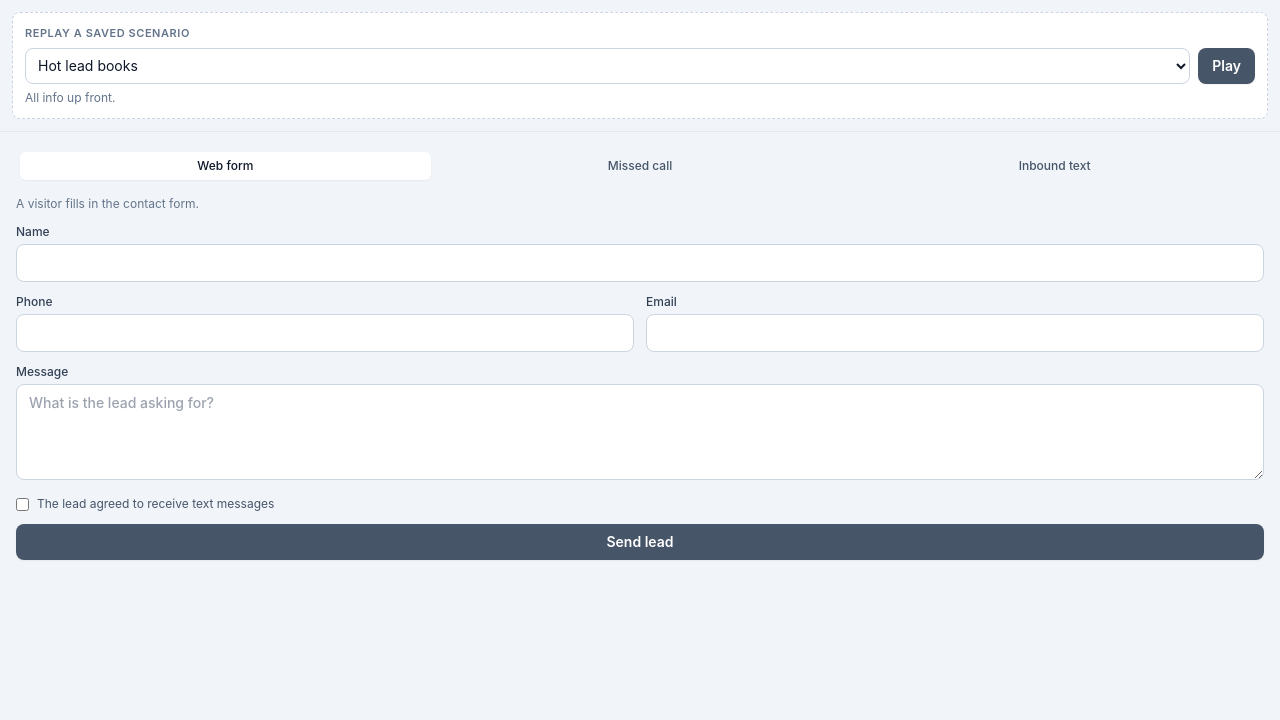
it: LeadSimulator › blocks an invalid lead and tells the user why
The image size is (1280, 720).
What coordinates should you click on to do the following:
click the button "Send lead"
I would click on:
 (640, 542)
Its box is [16, 524, 1264, 560].
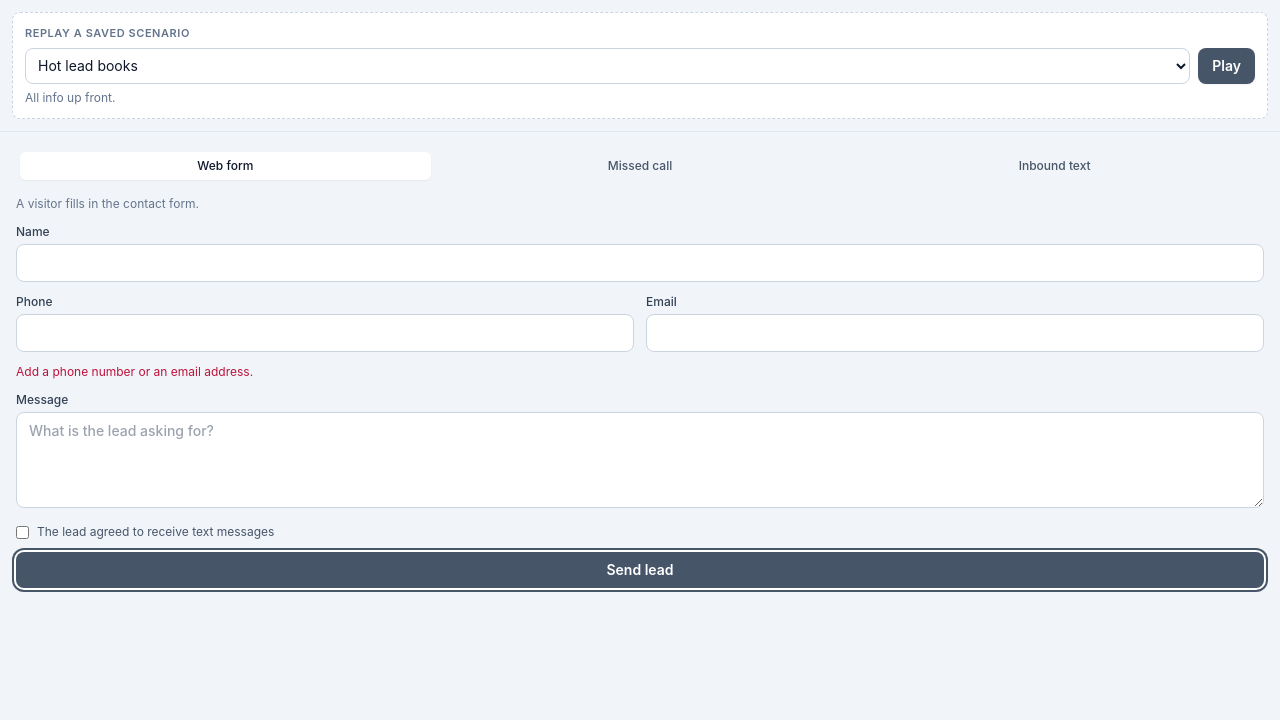
Expected: the message shows "phone number or an email", [16, 364, 253, 378]
